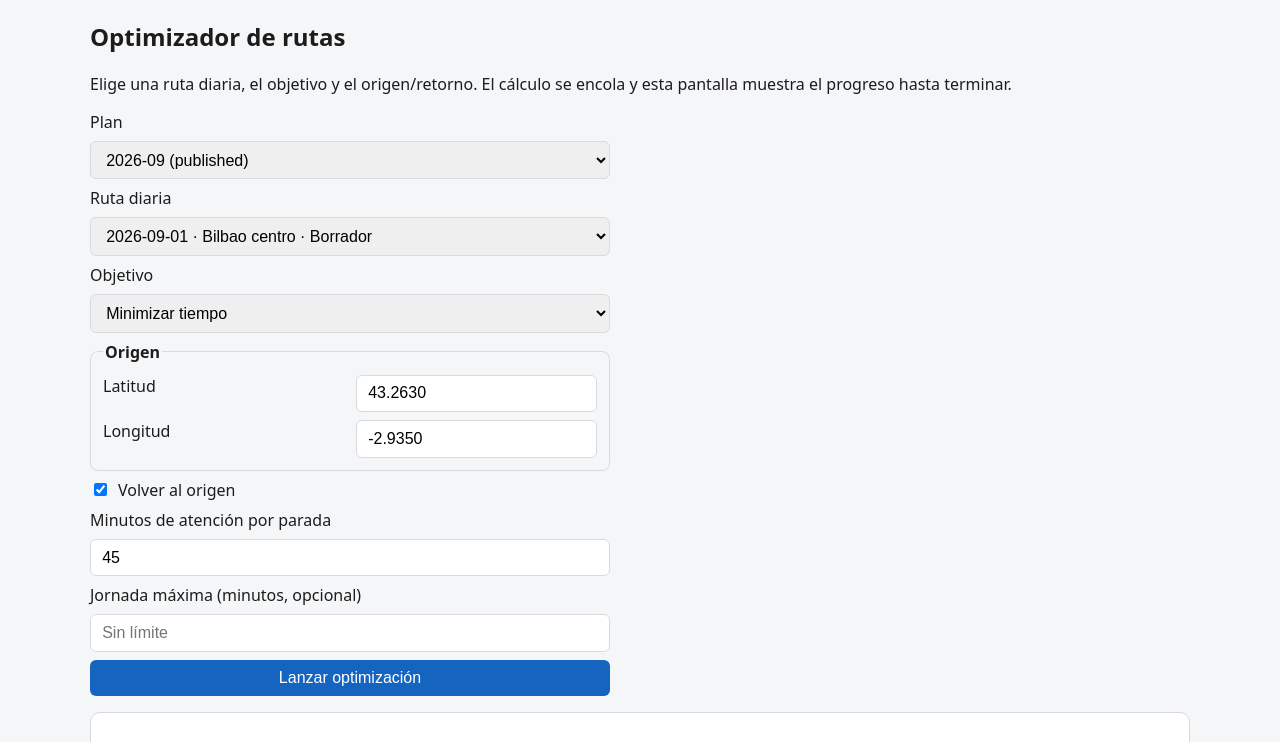
Test: OptimizerPage (3.FE.1) › en un caso inviable muestra el diagnóstico y las acciones sugeridas
This screenshot has width=1280, height=742.
Click the button with test id "optimizer-submit" at (350, 678), box [90,660,610,696]
(page scrolled)
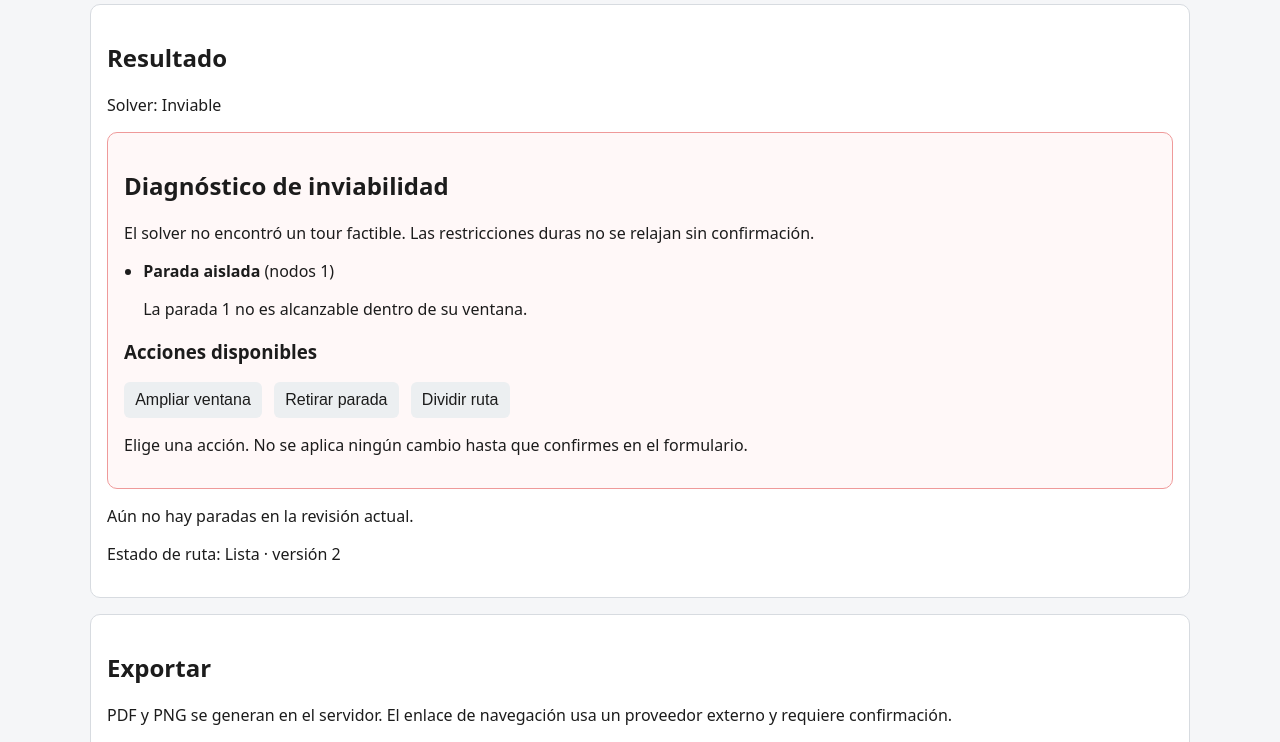
Check: the text with test id "optimizer-solver-status" shows "Inviable", box [162,94,221,116]
Check: the message with test id "optimizer-diagnostics" shows "Parada aislada", box [143,260,260,282]
Check: the list item with test id "optimizer-diagnostic-ISOLATED_STOP" shows "no es alcanzable", box [143,298,527,320]
Click the button with test id "optimizer-action-drop-stop" at (336, 400), box [274,382,399,418]
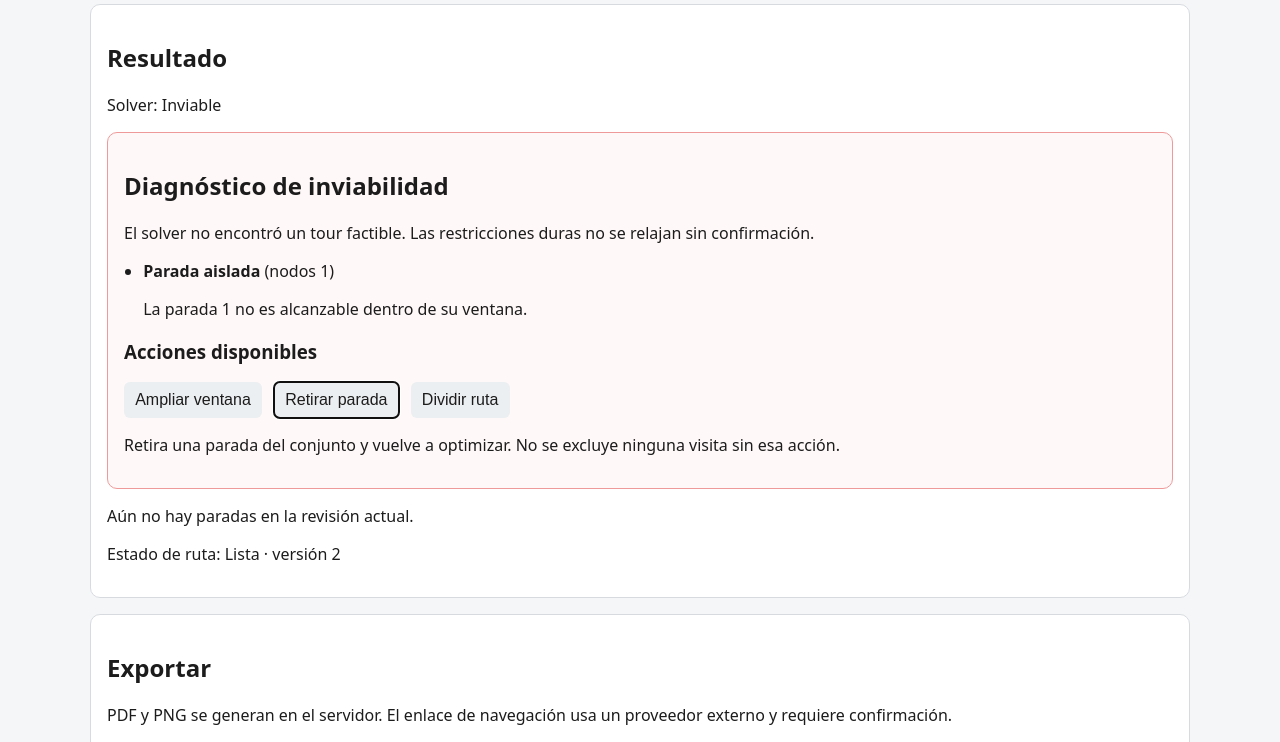
Check: the text with test id "optimizer-action-hint" shows "Retira una parada", box [124,434,840,456]
